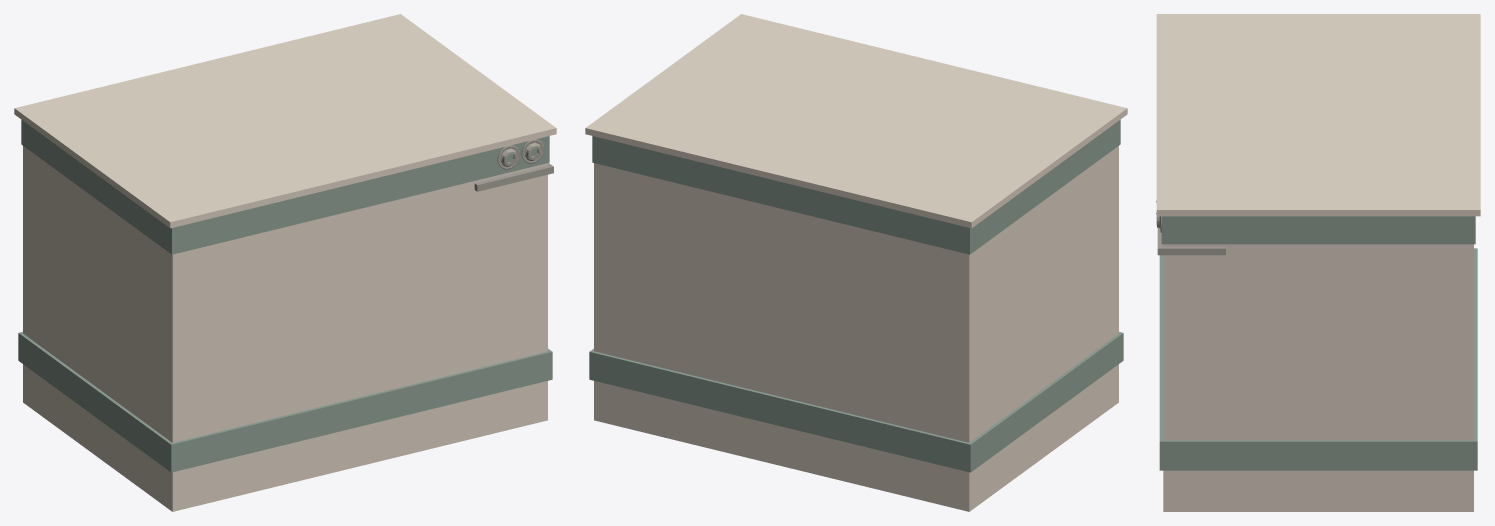
The model's file is bld_block_01.fbx.
3 views of the same model, side by side, from view 1: azimuth 30°, elevation 25°; view 2: azimuth 150°, elevation 25°; view 3: azimuth 270°, elevation 25° (orthographic). The views are drawn at different scales.
Visible parts, largest first — view 1: bld_block_01; view 2: bld_block_01; view 3: bld_block_01.
Part boxes in pixels (x1,y1,x2,y2): bld_block_01: (14, 14, 556, 511); bld_block_01: (585, 14, 1127, 511); bld_block_01: (1156, 14, 1480, 511).
Bounding box in the file's own units: 1175 × 852 × 822.
